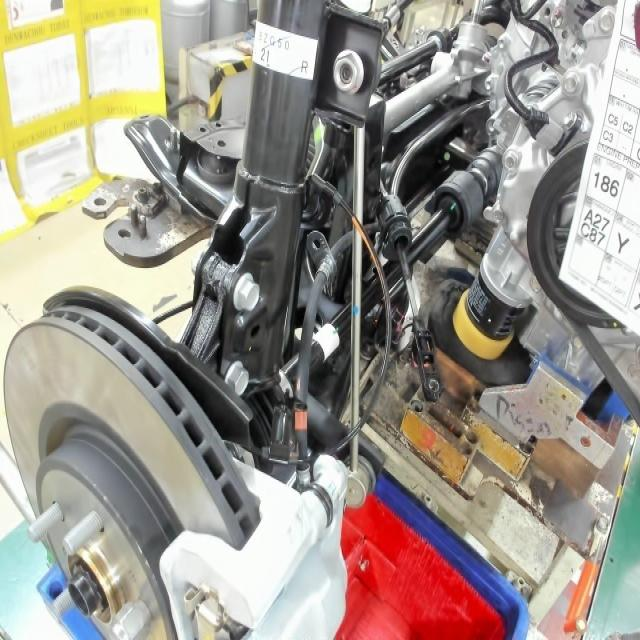Absorber RH-21: (258, 40, 278, 70)
Disc-HT: (15, 392, 199, 640)
Drive Shaft-PT: (312, 314, 343, 368)
